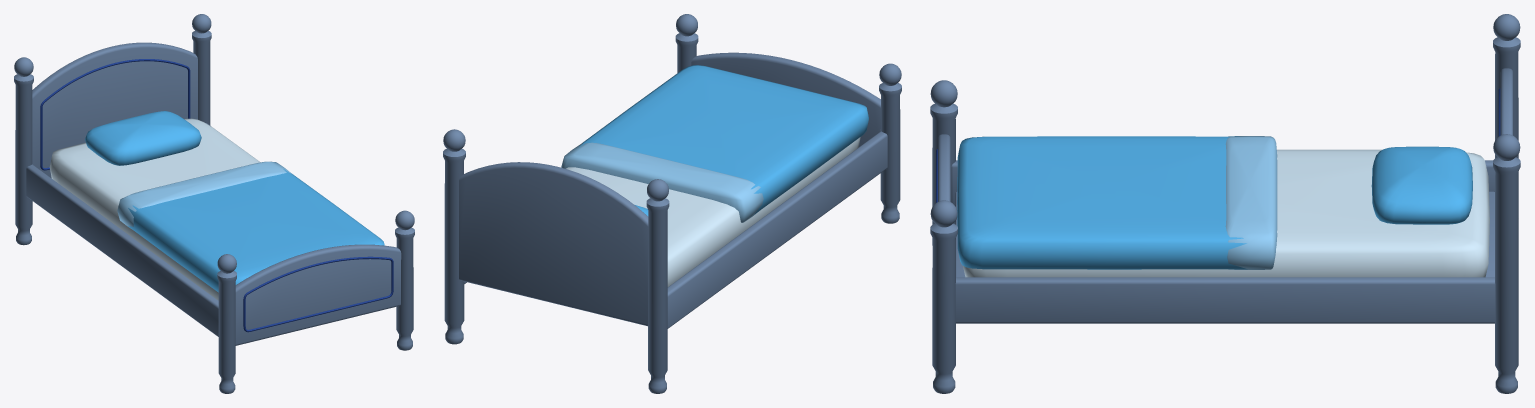
Rendered from cama_solteiro_classica_azul.glb.
3 views of the same model, side by side, from view 1: azimuth 30°, elevation 25°; view 2: azimuth 150°, elevation 25°; view 3: azimuth 270°, elevation 25° (orthographic). The views are drawn at different scales.
Visible parts, largest first — view 1: cama_solteiro_classica_azul; view 2: cama_solteiro_classica_azul; view 3: cama_solteiro_classica_azul.
Part boxes in pixels (<box>): cama_solteiro_classica_azul: <box>14,14,414,393</box>; cama_solteiro_classica_azul: <box>443,14,901,393</box>; cama_solteiro_classica_azul: <box>930,14,1520,393</box>.
Bounding box in the file's own units: 1.11 × 0.9991 × 2.1.
1 material, 1 textured.
